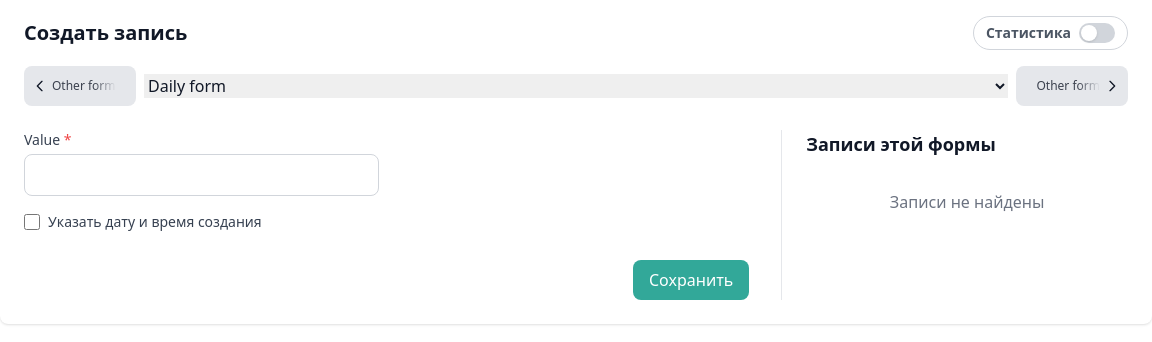
QuickEntryWidget cache refresh › shows the neighboring form names on navigation buttons
Expected: the elements with class "form-neighbor-name" read "Other form", "Other form", in this order, 52,78 -> 116,94; 1036,78 -> 1100,94
Click the 2nd button "Other form".
click(1072, 86)  # box 1016,66 -> 1128,106
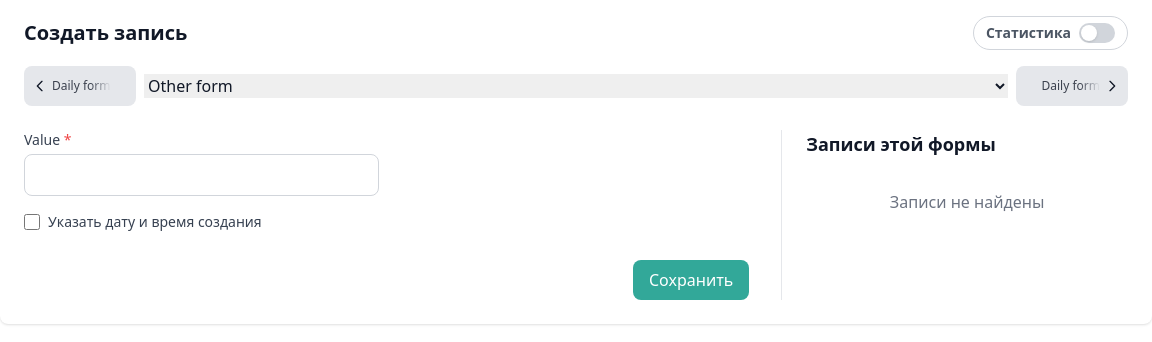
Expected: the elements with class "form-neighbor-name" read "Daily form", "Daily form", in this order, 52,78 -> 110,94; 1042,78 -> 1100,94
